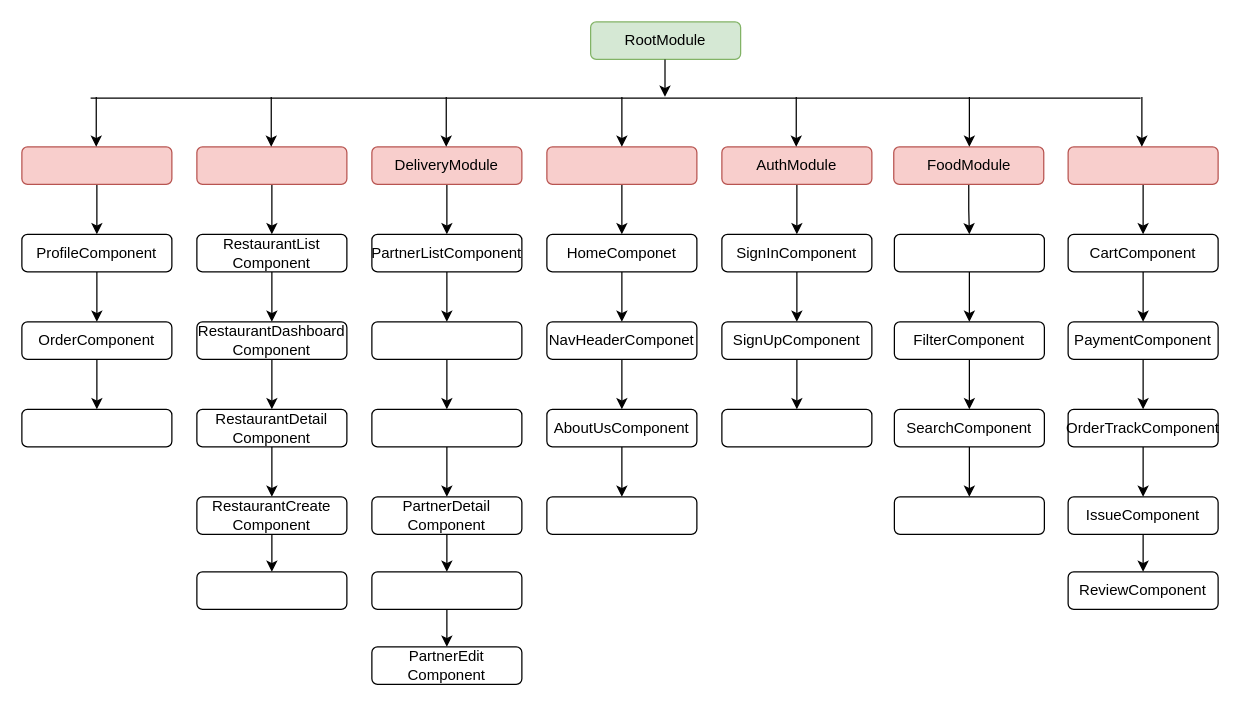
The diagram is 1241 pixels wide and 706 high, and some of its shapes have lost their labels. The shapes that lost their labels are listed below. From the top down, each one's box as (x1, y1, x2, y2) in pixels, then its label:
(21, 146, 172, 184): CustomerModule
(196, 146, 347, 184): RestaurantModule
(546, 146, 697, 184): CoreModule
(1067, 146, 1218, 184): OrderModule
(893, 233, 1044, 272): FoodListComponent
(371, 321, 522, 359): PartnerDashboard Component
(21, 408, 172, 447): Restaurant Component
(371, 408, 522, 447): PartnerTrackStatus Component
(721, 408, 872, 447): BlockComponent
(546, 496, 697, 534): RoutingModule
(893, 496, 1044, 534): OfferListComponent
(196, 571, 347, 609): RestaurantEdit Component
(371, 571, 522, 609): PartnerCreate Component
